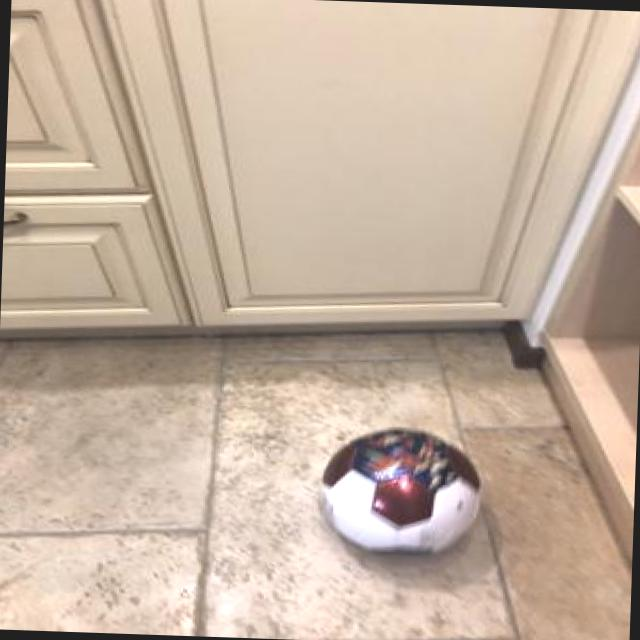Soccer Ball: (312, 419, 482, 561)
